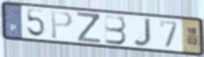5: (25, 7, 47, 38)
7: (158, 20, 179, 50)
B: (103, 14, 128, 46)
J: (132, 18, 153, 48)
P: (50, 10, 74, 40)
Z: (76, 11, 102, 45)
